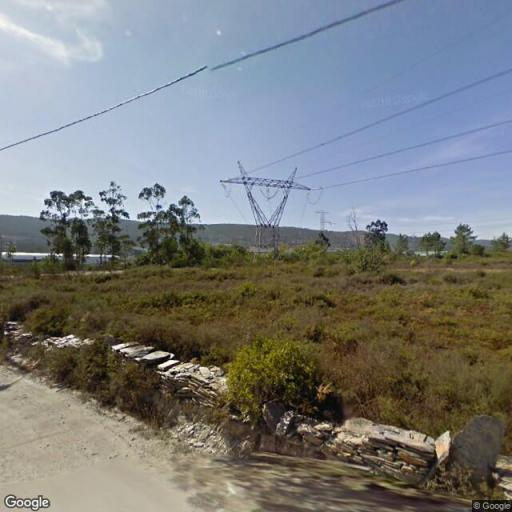ss_4: (314, 206, 336, 236)
wt_5: (221, 158, 316, 258)
